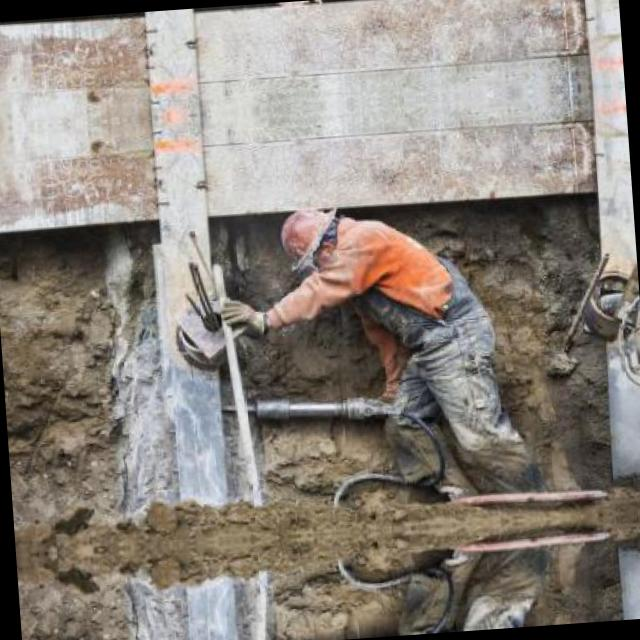helmet: (272, 204, 342, 268)
